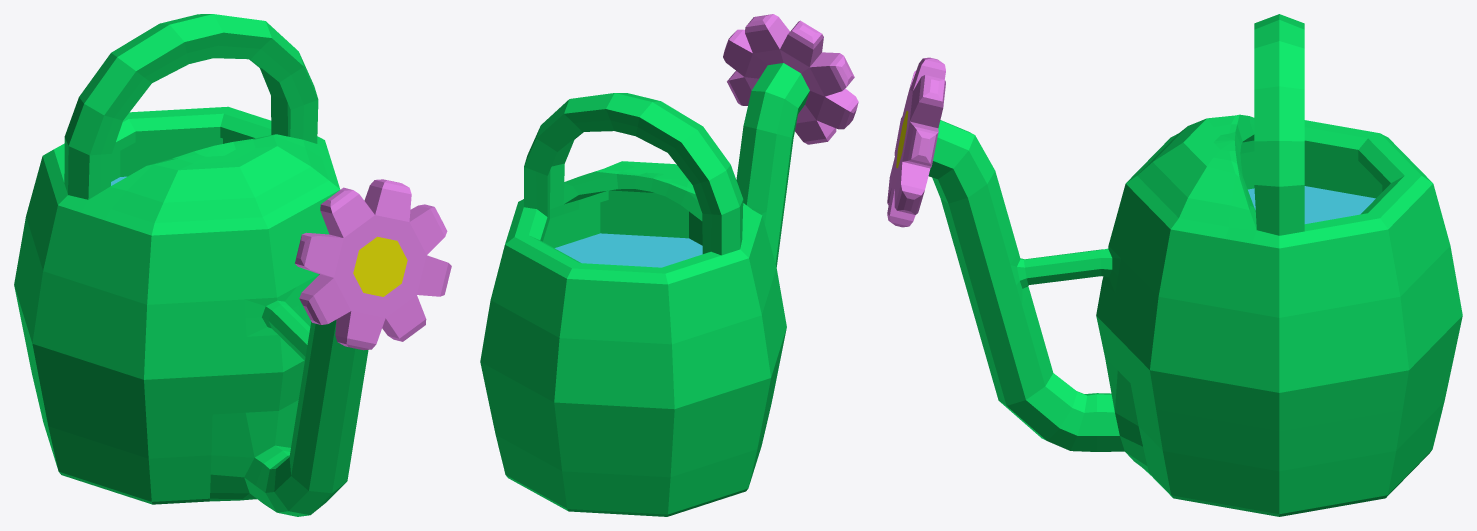
Rendered from watering_can_flower_flat.fbx.
The picture shows the model from 3 angles, left to right: view 1: azimuth 30°, elevation 25°; view 2: azimuth 150°, elevation 25°; view 3: azimuth 270°, elevation 25°; orthographic projection. The views are drawn at different scales.
Visible parts, largest first — view 1: watering_can_flower; view 2: watering_can_flower; view 3: watering_can_flower.
Part boxes in pixels (x1,y1,x2,y2): watering_can_flower: (14, 14, 451, 516); watering_can_flower: (480, 14, 858, 516); watering_can_flower: (887, 14, 1462, 516).
Bounding box in the file's own units: 36.25 × 46.34 × 56.91.
